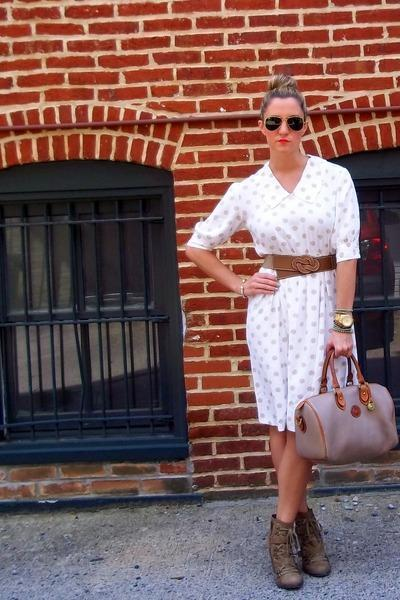bag: (294, 315, 399, 481)
dress: (187, 156, 360, 431)
shoe: (266, 506, 338, 580)
sunglass: (266, 117, 302, 131)
